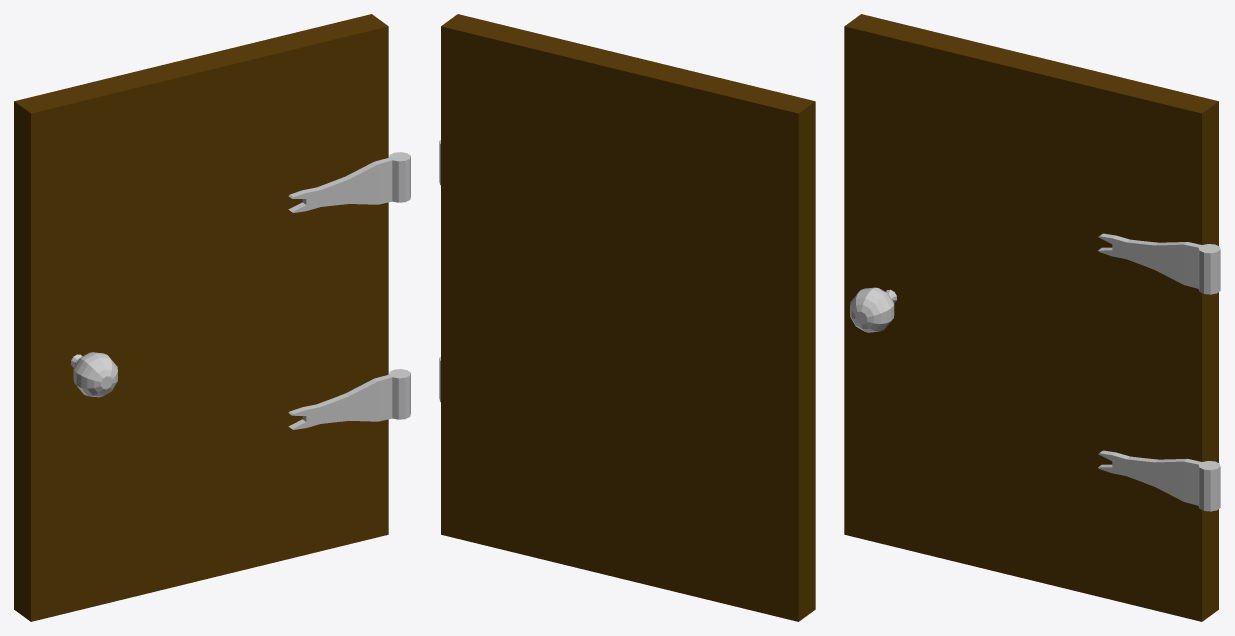
File: Chest_Door_Right_low.fbx
The picture shows the model from 3 angles, left to right: view 1: azimuth 30°, elevation 25°; view 2: azimuth 150°, elevation 25°; view 3: azimuth 330°, elevation 25°; orthographic projection.
Visible parts, largest first — view 1: Chest_door_right_low; view 2: Chest_door_right_low; view 3: Chest_door_right_low.
Part boxes in pixels (bbox=[...]): Chest_door_right_low: bbox=[14, 14, 410, 621]; Chest_door_right_low: bbox=[439, 14, 815, 621]; Chest_door_right_low: bbox=[844, 14, 1220, 621].
Bounding box in the file's own units: 50.78 × 65.57 × 10.85.
